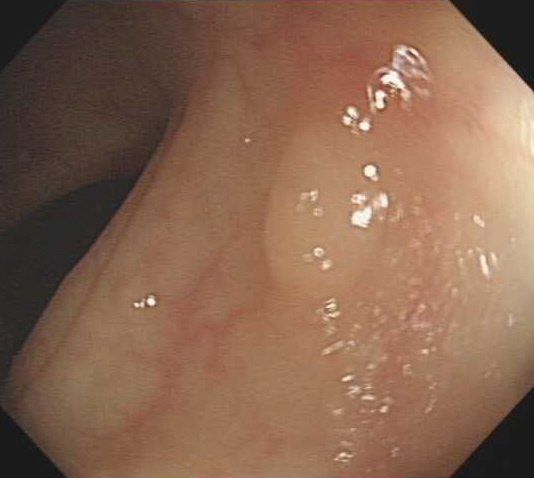adenoma: (259, 107, 386, 303)
